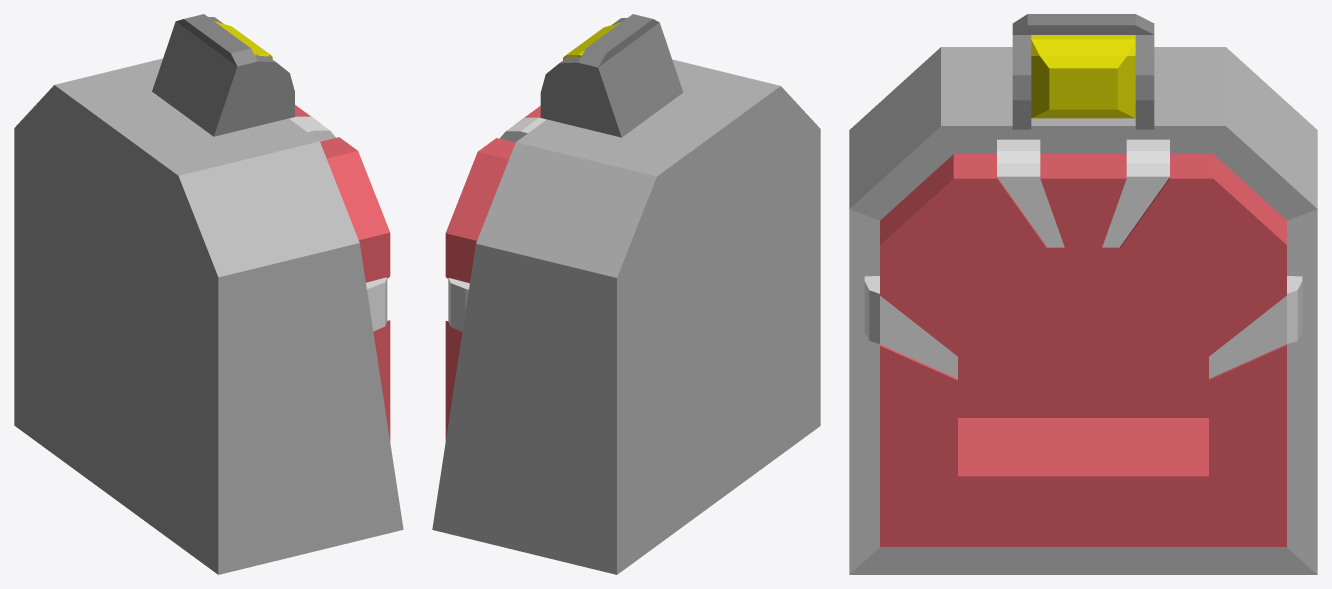
File: socket.fbx
The picture shows the model from 3 angles, left to right: view 1: azimuth 30°, elevation 25°; view 2: azimuth 150°, elevation 25°; view 3: azimuth 270°, elevation 25°; orthographic projection. The views are drawn at different scales.
Visible parts, largest first — view 1: body, lens, socket, accent; view 2: body, lens, socket, accent; view 3: socket, body, accent, lamp, lens.
Part boxes in pixels (x1,y1,x2,y2): body: [14, 58, 403, 574]; lens: [152, 14, 294, 136]; socket: [290, 105, 390, 441]; accent: [289, 116, 387, 331]; body: [432, 59, 820, 574]; lens: [540, 14, 683, 137]; socket: [445, 106, 545, 440]; accent: [448, 117, 546, 331]; socket: [880, 154, 1286, 546]; body: [849, 47, 1317, 574]; accent: [864, 139, 1302, 378]; lamp: [1031, 35, 1135, 118]; lens: [1012, 14, 1154, 129].
Size of the model in its own units: 105 by 239 by 200.
